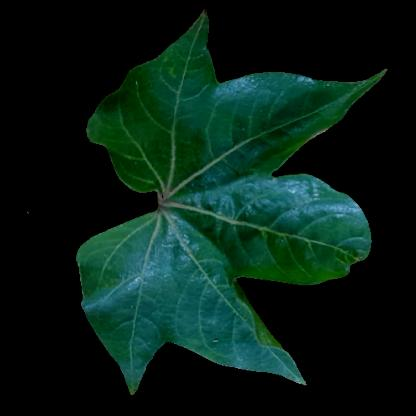healthy: (176, 162, 268, 278), (119, 99, 305, 147), (89, 245, 171, 326), (276, 179, 344, 270), (191, 276, 258, 358), (165, 49, 201, 95), (112, 326, 148, 368)
